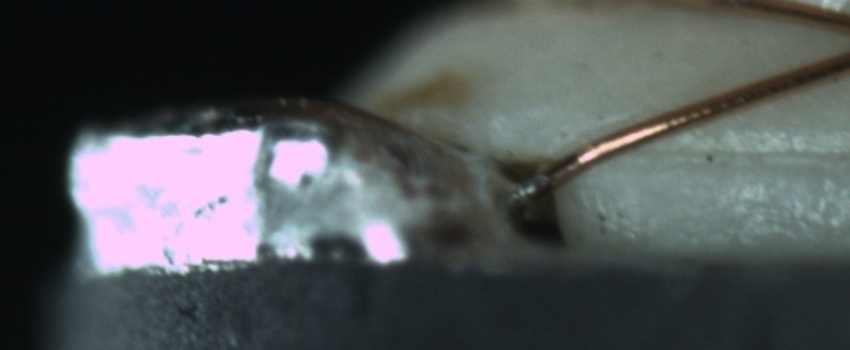DL: (625, 119, 844, 191)
